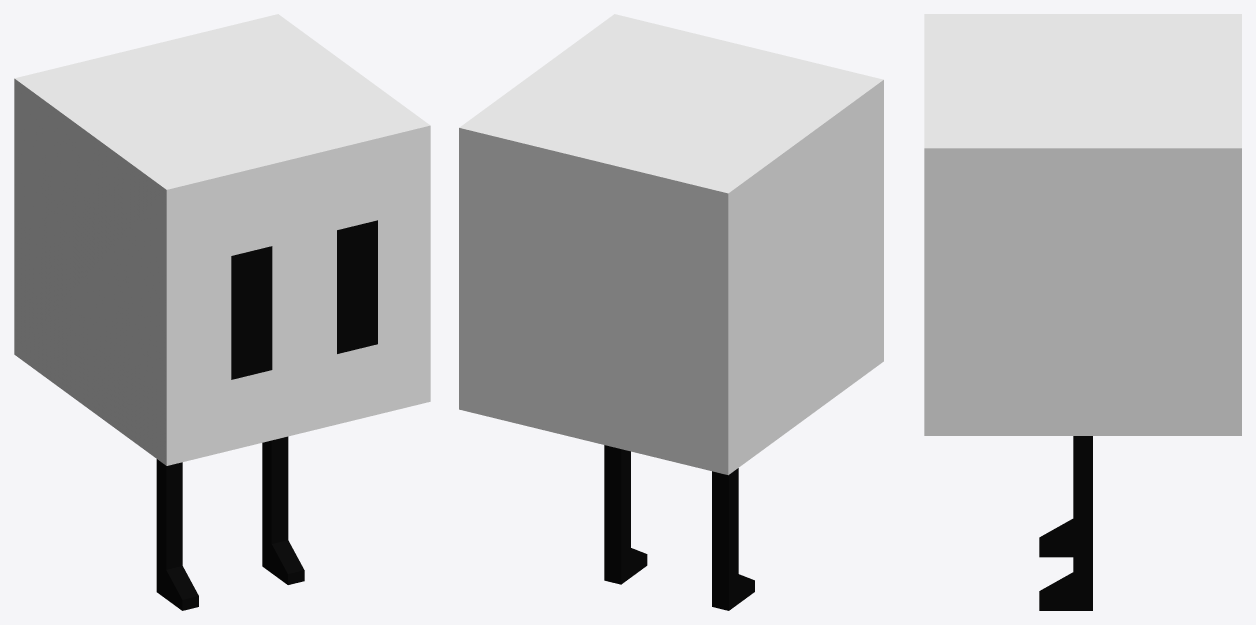
Rendered from asi.obj.
The picture shows the model from 3 angles, left to right: view 1: azimuth 30°, elevation 25°; view 2: azimuth 150°, elevation 25°; view 3: azimuth 270°, elevation 25°; orthographic projection. The views are drawn at different scales.
Parts seen in each view (by area): view 1: pCube1, pPlane1, pPlane2, pCube5, pCube6; view 2: pCube1, pCube5, pCube6; view 3: pCube1, pCube6, pCube5.
Part boxes in pixels (x1,y1,x2,y2): pCube1: (14, 14, 430, 465); pPlane1: (231, 246, 272, 379); pPlane2: (337, 220, 377, 353); pCube5: (156, 459, 198, 610); pCube6: (262, 436, 304, 584); pCube1: (459, 14, 883, 475); pCube5: (712, 468, 754, 610); pCube6: (604, 445, 647, 584); pCube1: (924, 14, 1241, 435); pCube6: (1039, 436, 1092, 610); pCube5: (1039, 519, 1073, 557).
Bounding box in the file's own units: 5 × 8.67 × 5.19.
Materials: 1 (1 with a texture image).
